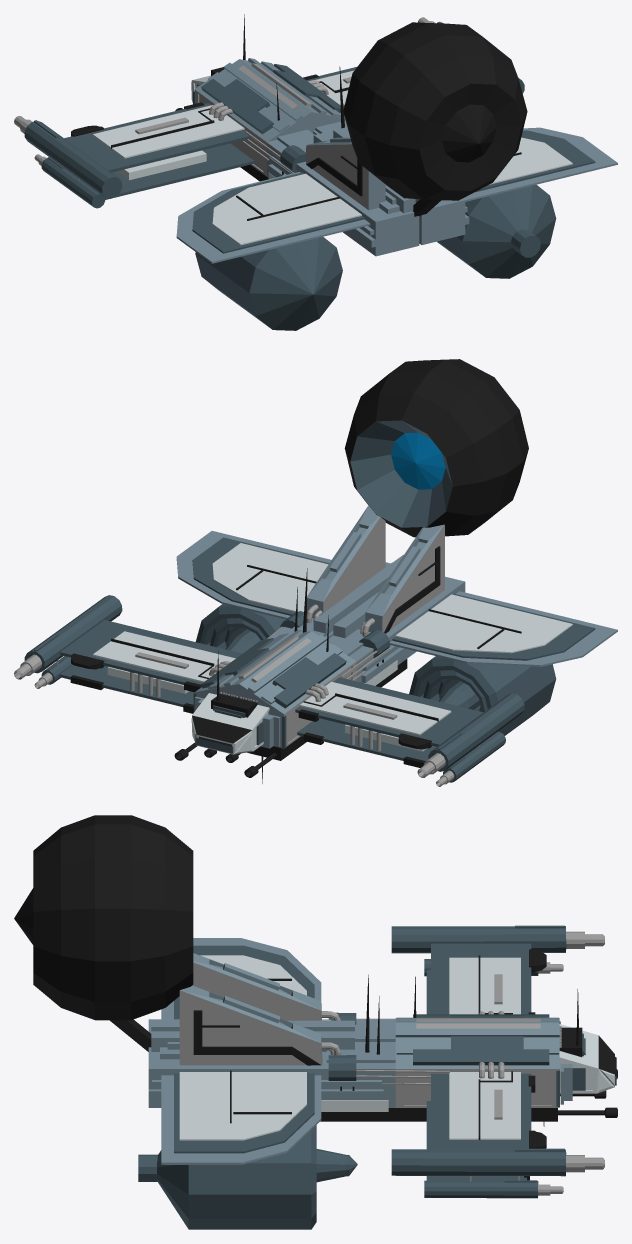
3 views of the same model, one above another, from view 1: azimuth 30°, elevation 25°; view 2: azimuth 150°, elevation 25°; view 3: azimuth 270°, elevation 25° (orthographic). The views are drawn at different scales.
Parts seen in each view (by area): view 1: model; view 2: model; view 3: model.
Part boxes in pixels (x1,y1,x2,y2): model: [14, 14, 617, 330]; model: [14, 359, 617, 786]; model: [14, 815, 617, 1229].
Size of the model in its own units: 3.21 by 2.17 by 3.5.
